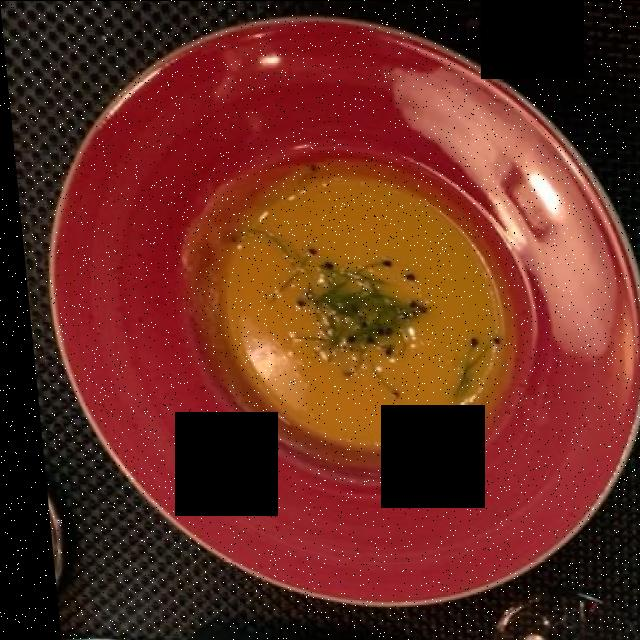shoots: (278, 249, 420, 356)
